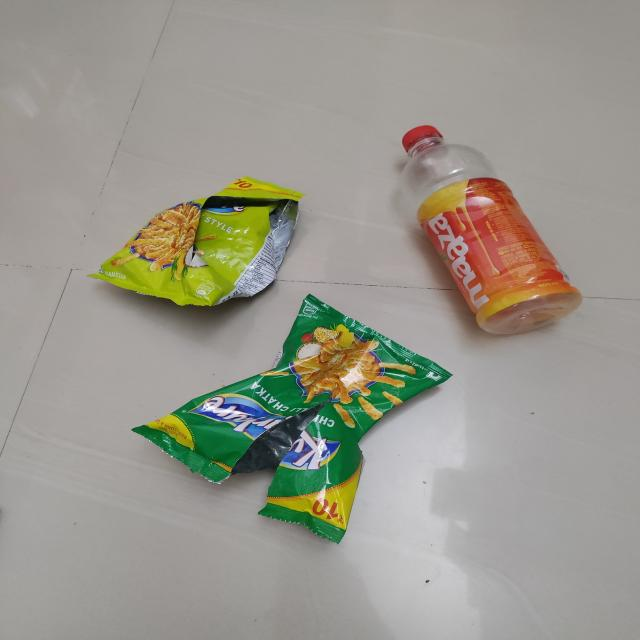dry: (140, 311, 446, 525), (380, 107, 594, 346), (87, 160, 313, 322)
